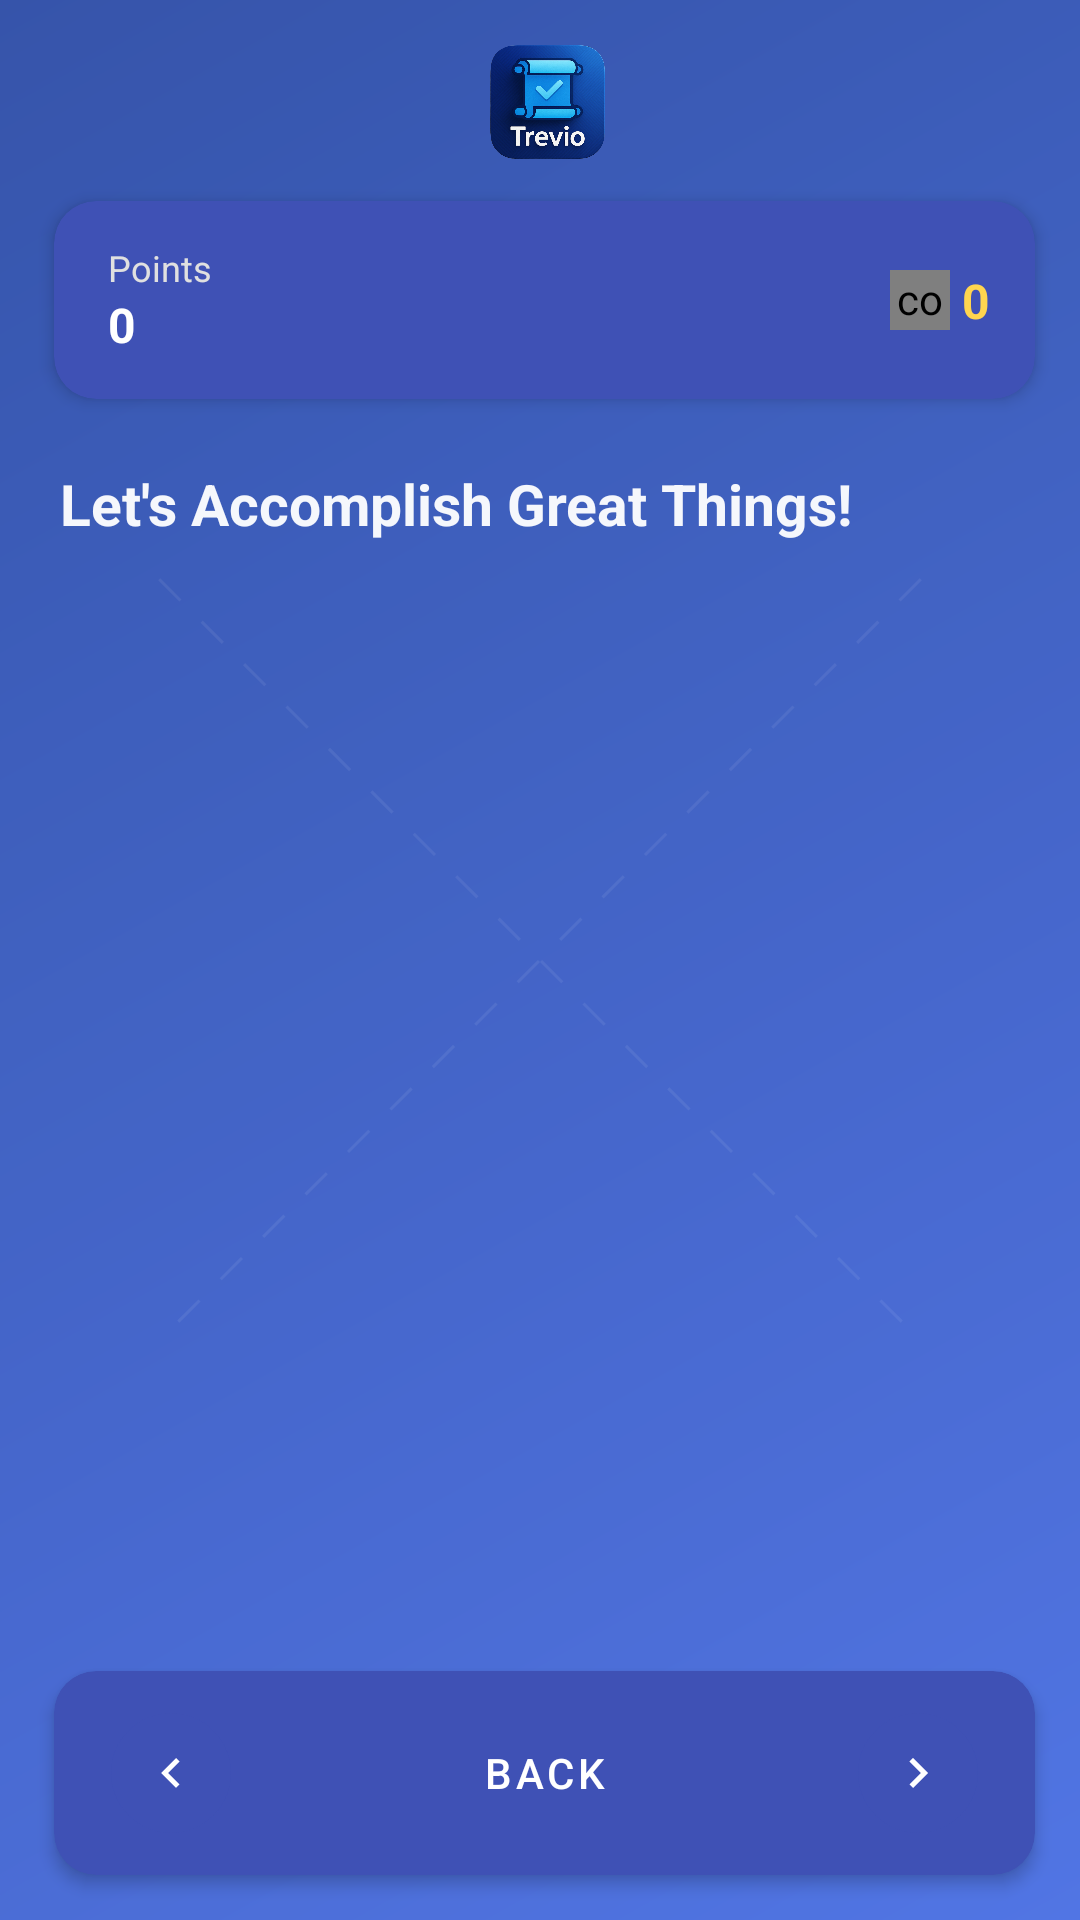

Icons on this 1080×1920 Android screen, each with its box as Rect(x1, y1, x2, y2):
chevron left: Rect(161, 1758, 180, 1788)
chevron right: Rect(909, 1758, 928, 1788)
